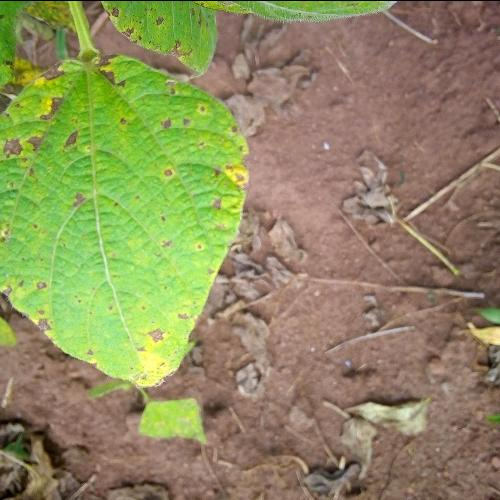hawar: (140, 80, 258, 210), (13, 65, 83, 179), (126, 304, 178, 387)
